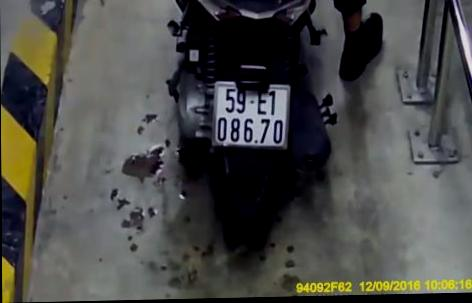License_Plate: (205, 74, 295, 158)
